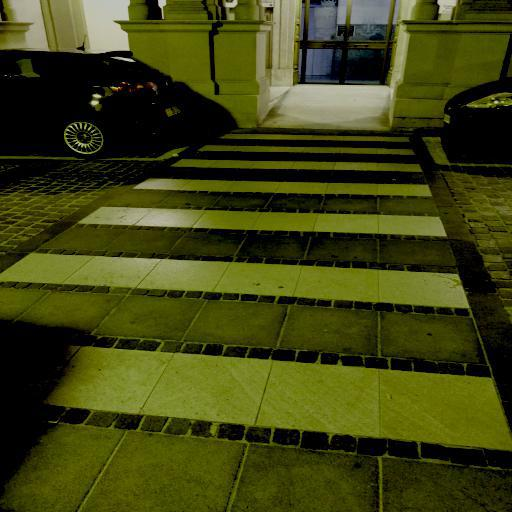crosswalk: (0, 248, 512, 474), (64, 172, 462, 240)
